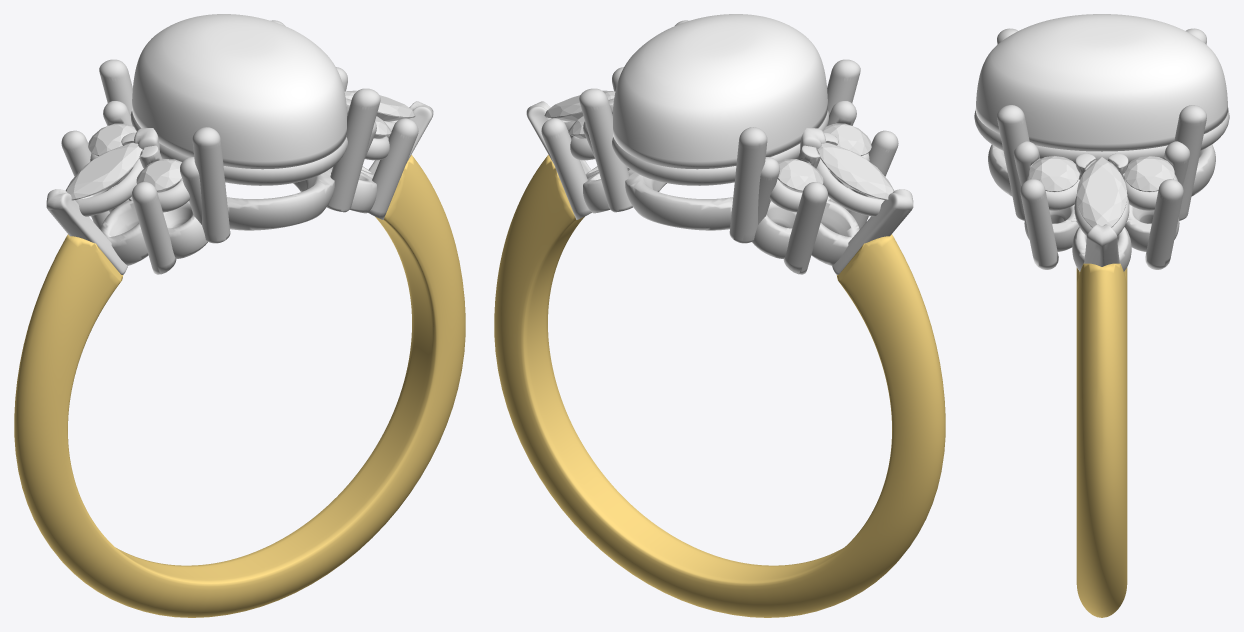
File: rendered opal.glb
The picture shows the model from 3 angles, left to right: view 1: azimuth 30°, elevation 25°; view 2: azimuth 150°, elevation 25°; view 3: azimuth 270°, elevation 25°; orthographic projection.
Visible parts, largest first — view 1: Zach YG for 3d model, Zach PT for 3d model, Zach opal for 3d model, Zach dia for 3d model.001, Zach dia for 3d model.005, Zach dia for 3d model, Zach dia for 3d model.004; view 2: Zach YG for 3d model, Zach PT for 3d model, Zach opal for 3d model, Zach dia for 3d model.001, Zach dia for 3d model, Zach dia for 3d model.005, Zach dia for 3d model.004; view 3: Zach opal for 3d model, Zach PT for 3d model, Zach YG for 3d model, Zach dia for 3d model.004, Zach dia for 3d model.002, Zach dia for 3d model.003.
Part boxes in pixels (x1,y1,x2,y2): Zach YG for 3d model: (14, 155, 465, 617); Zach PT for 3d model: (46, 20, 433, 274); Zach opal for 3d model: (132, 14, 347, 169); Zach dia for 3d model.001: (65, 143, 142, 200); Zach dia for 3d model.005: (136, 159, 182, 192); Zach dia for 3d model: (88, 123, 136, 155); Zach dia for 3d model.004: (344, 90, 415, 121); Zach YG for 3d model: (494, 155, 945, 617); Zach PT for 3d model: (526, 20, 913, 274); Zach opal for 3d model: (612, 14, 827, 169); Zach dia for 3d model.001: (817, 143, 894, 200); Zach dia for 3d model: (777, 159, 823, 192); Zach dia for 3d model.005: (823, 123, 871, 155); Zach dia for 3d model.004: (544, 90, 615, 121); Zach opal for 3d model: (975, 14, 1228, 151); Zach PT for 3d model: (974, 28, 1229, 271); Zach YG for 3d model: (1076, 263, 1127, 617); Zach dia for 3d model.004: (1076, 157, 1127, 227); Zach dia for 3d model.002: (1029, 156, 1079, 191); Zach dia for 3d model.003: (1124, 156, 1174, 191).
Size of the model in its own units: 20.09 by 24.54 by 10.1.
